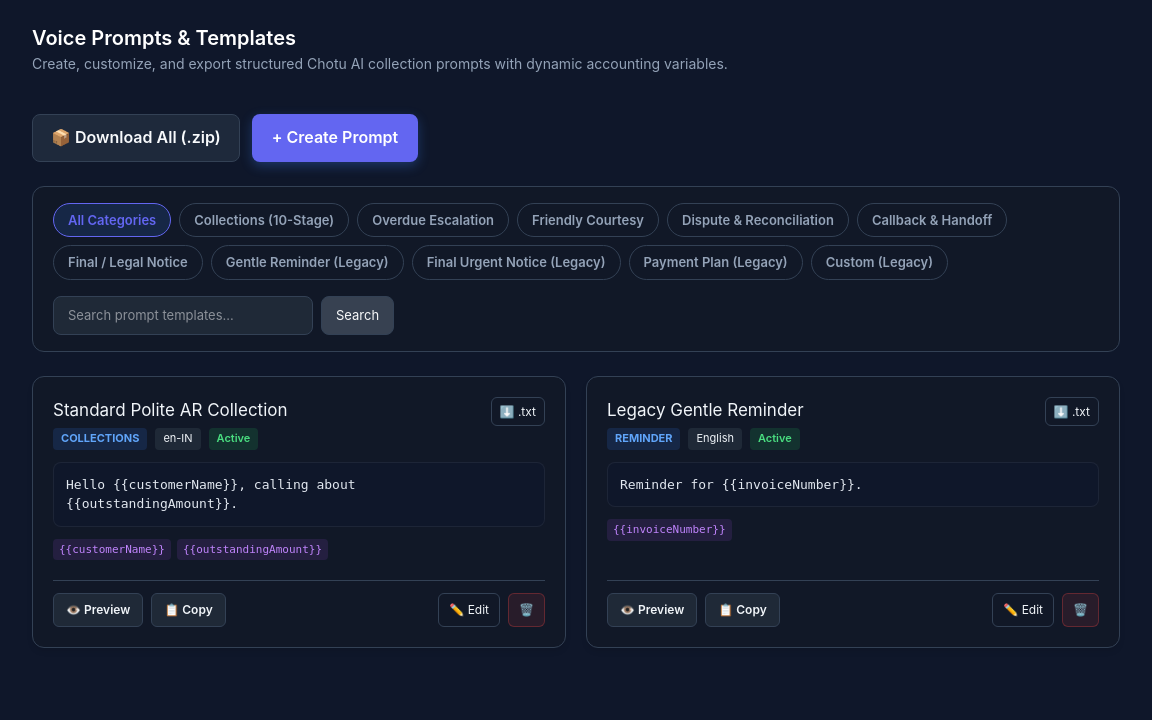
Scenario: P2-04 Chotu Voice Prompts & Export Fixes › filters prompts using canonical categories and preserves legacy category when editing
This screenshot has width=1152, height=720.
Expected: the heading "Legacy Gentle Reminder" is shown, [607,397,804,424]
Click the button "Collections (10-Stage)" at (264, 220), box [179,203,349,237]
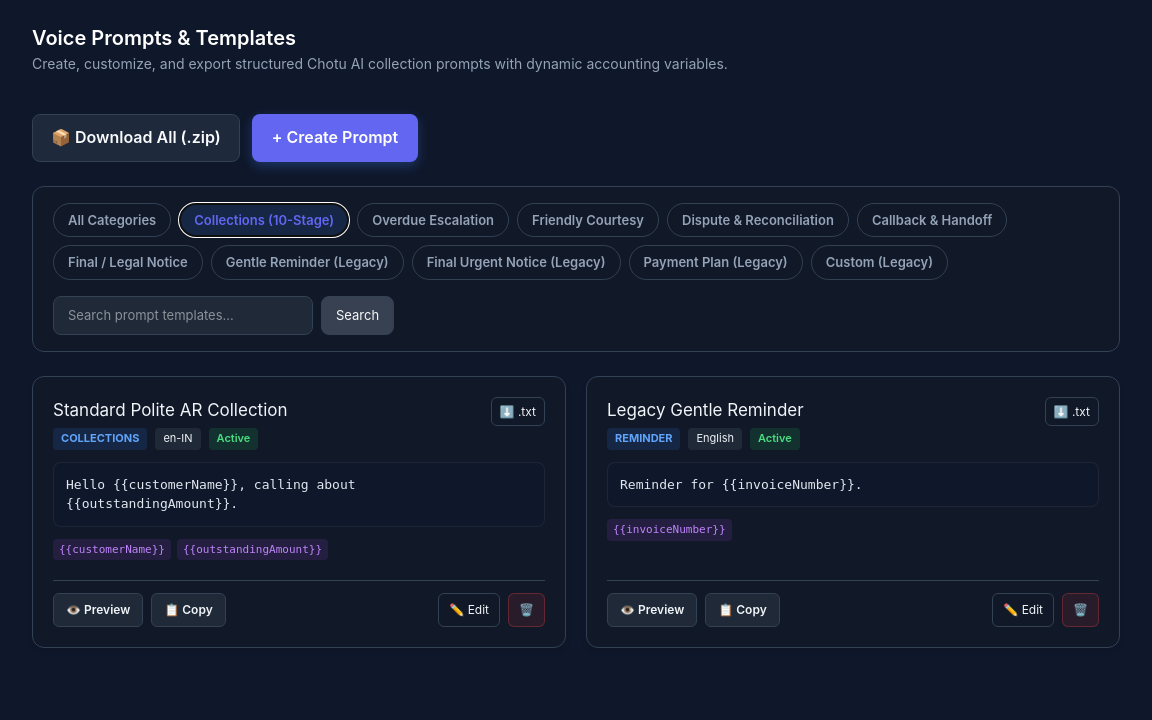
# Edit the legacy REMINDER prompt and ensure select retains REMINDER
Click the button "✏️ Edit" below "Reminder for {{invoiceNumber}}." at (1023, 610), box [992,593,1054,627]
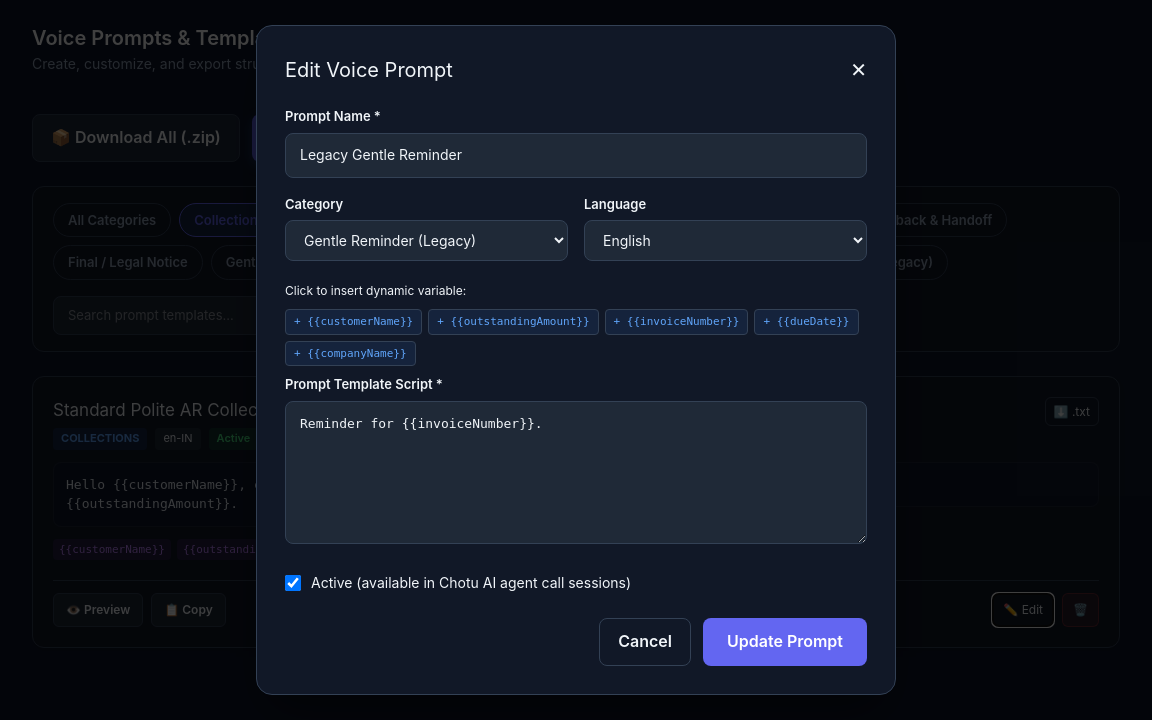
Result: the dropdown labelled "Category" shows "Gentle Reminder (Legacy)" at [285,220,568,261]
